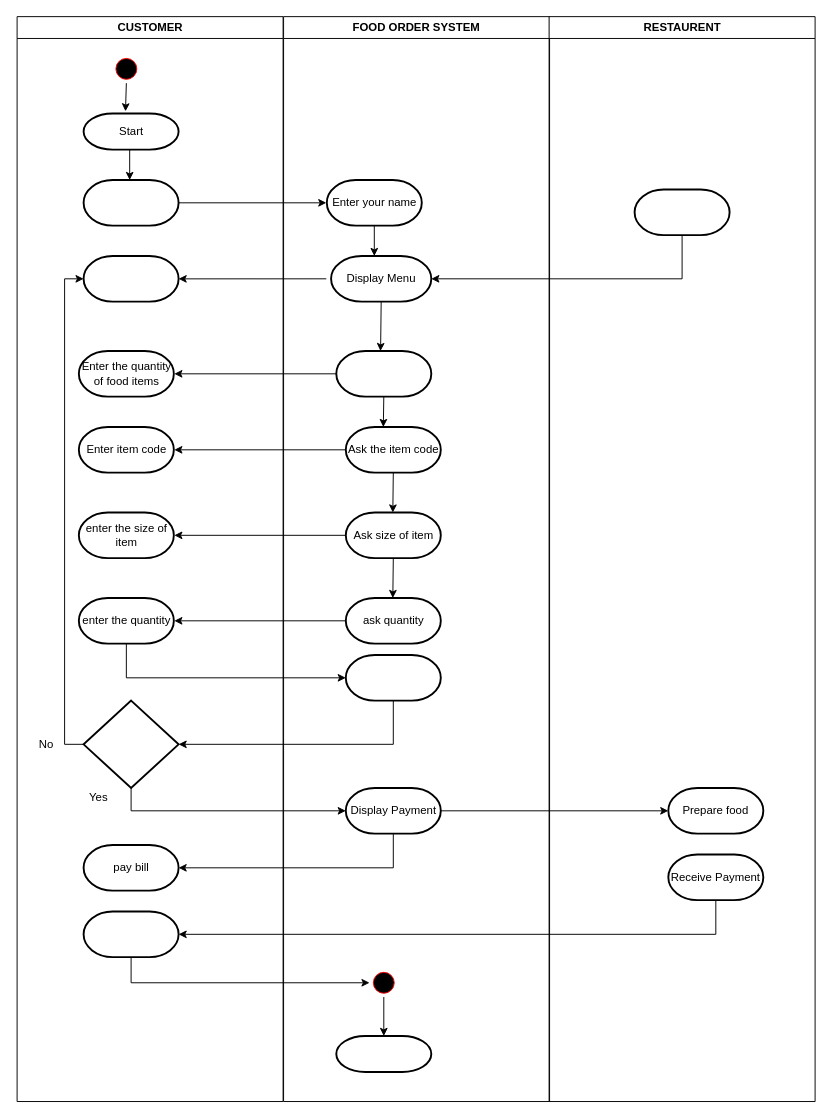
Some shapes in this 831 by 1118 pixel diagram are drawn without their labels. Here are the shapes that lost their labels. From the top down, the centre of each, then its label:
At point (130, 202): "Request for service".
At point (681, 212): "Menu Available".
At point (130, 278): "Choose Menu".
At point (383, 373): "Ask how many items orders".
At point (392, 677): "Ask for any other item".
At point (130, 743): "Order confirn".
At point (130, 934): "Receive order".
At point (383, 1054): "Stop".
